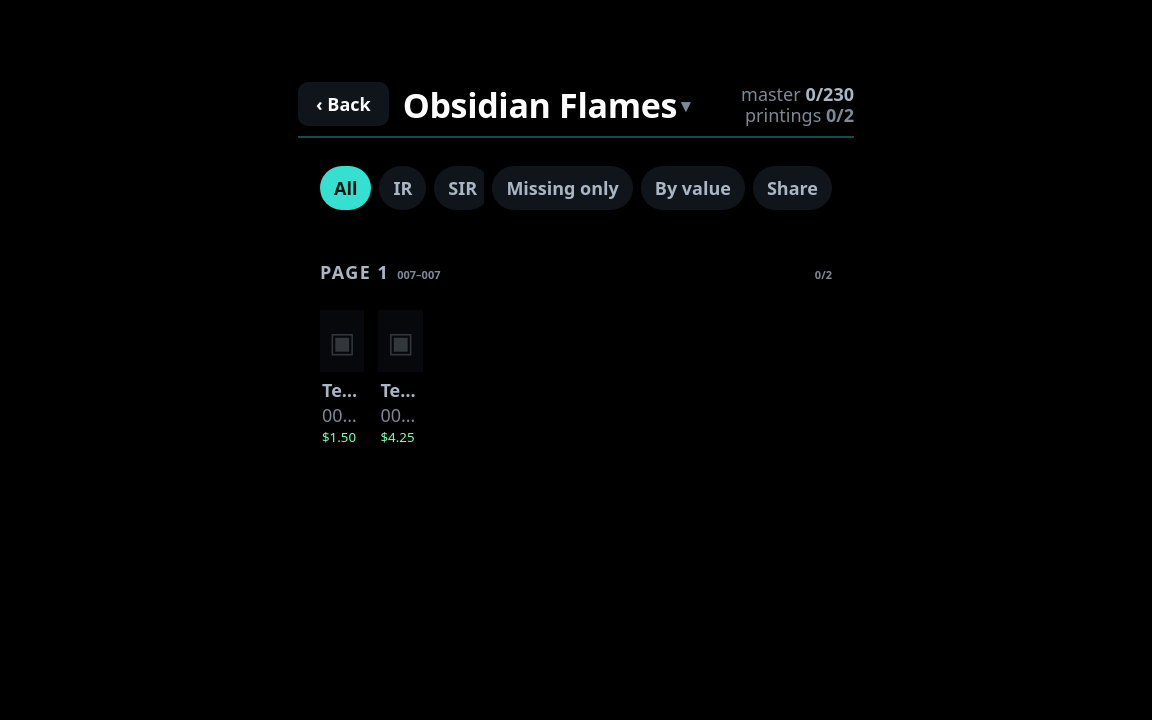
Test case: WebSetCardsScreen › headlines a card with its dearest printing when the catalog has no price
Click the button "Test Card 007 · Normal $1.50" at (342, 412), box top-left (320, 376), bottom-right (364, 448)
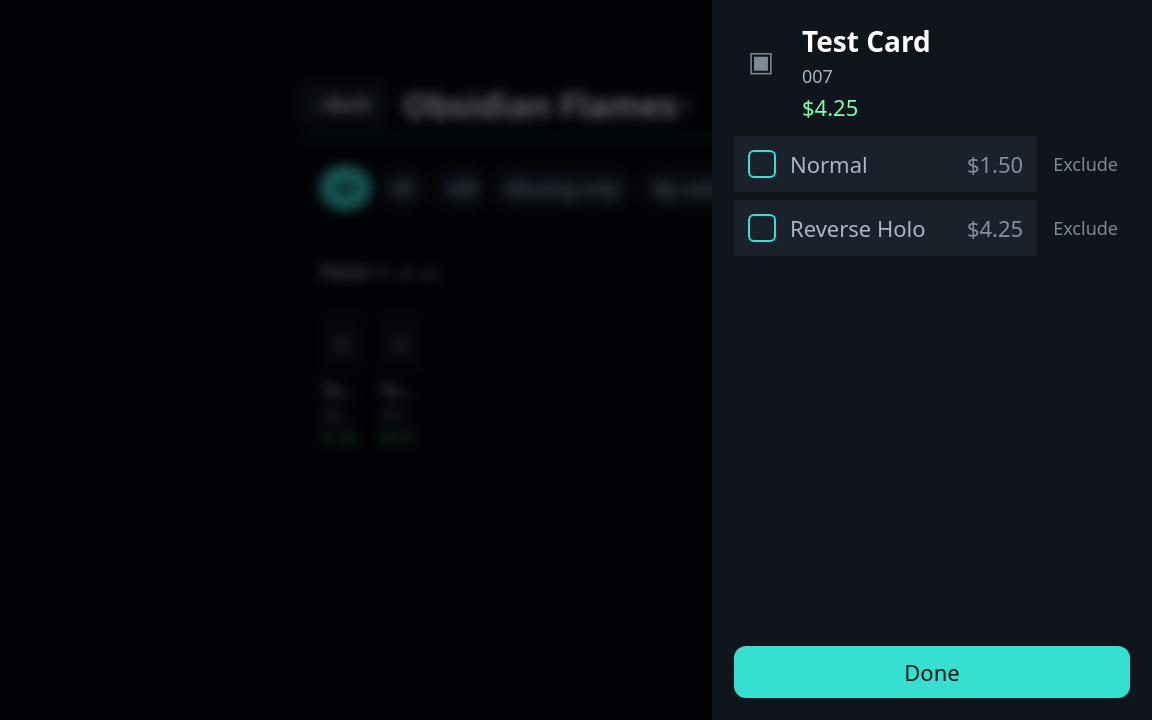
Now the text with test id "sheet-headline-price" reads "$4.25", box top-left (802, 92), bottom-right (858, 122)
